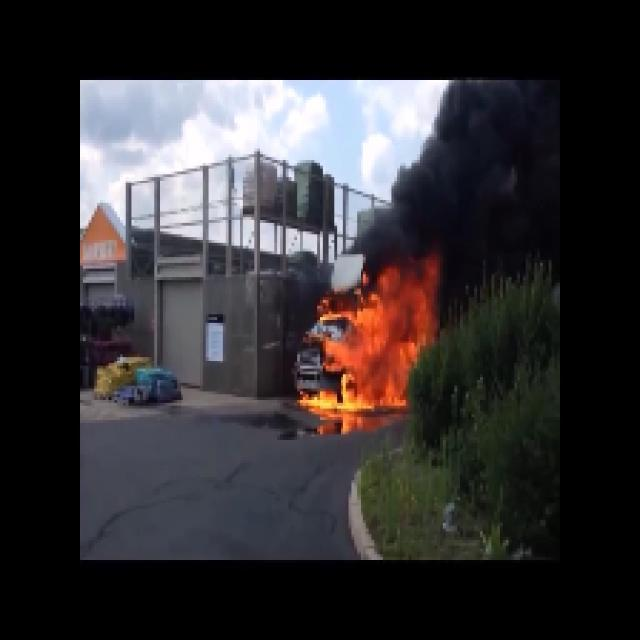Fire: (318, 272, 440, 414)
Smoke: (372, 80, 550, 266)
